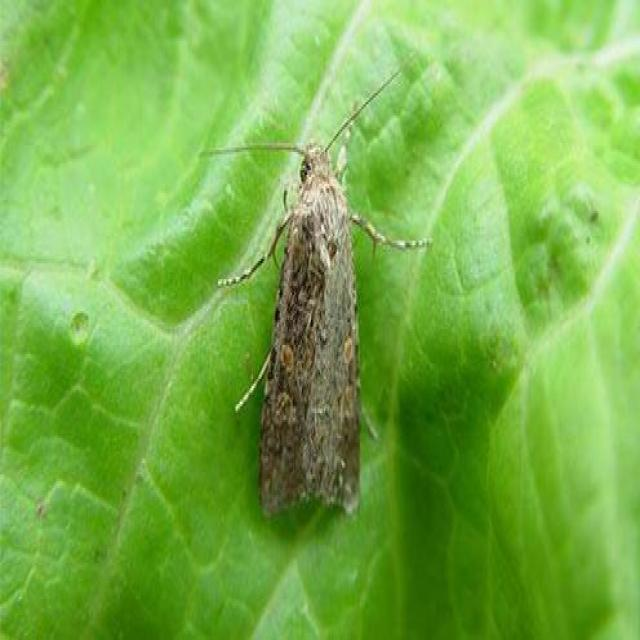armyworm: (259, 95, 373, 539)
